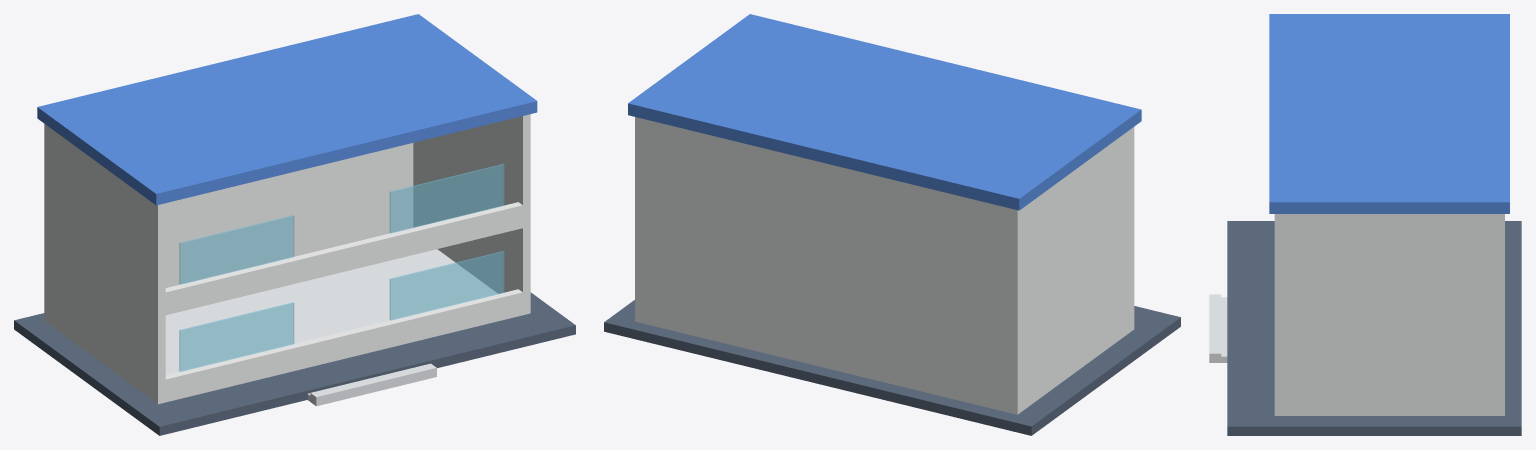
The model's file is gedung_kuliah_terpadu.glb.
The picture shows the model from 3 angles, left to right: view 1: azimuth 30°, elevation 25°; view 2: azimuth 150°, elevation 25°; view 3: azimuth 270°, elevation 25°; orthographic projection. The views are drawn at different scales.
Parts seen in each view (by area): view 1: Gedung_Kuliah_Terpadu, Undakan_Stairs; view 2: Gedung_Kuliah_Terpadu; view 3: Gedung_Kuliah_Terpadu, Undakan_Stairs.
Part boxes in pixels (x1,y1,x2,y2): Gedung_Kuliah_Terpadu: (14,14,575,435); Undakan_Stairs: (307,363,436,406); Gedung_Kuliah_Terpadu: (604,14,1180,435); Gedung_Kuliah_Terpadu: (1227,14,1521,435); Undakan_Stairs: (1209,294,1227,362).
Size of the model in its own units: 19 by 9.7 by 12.2.
